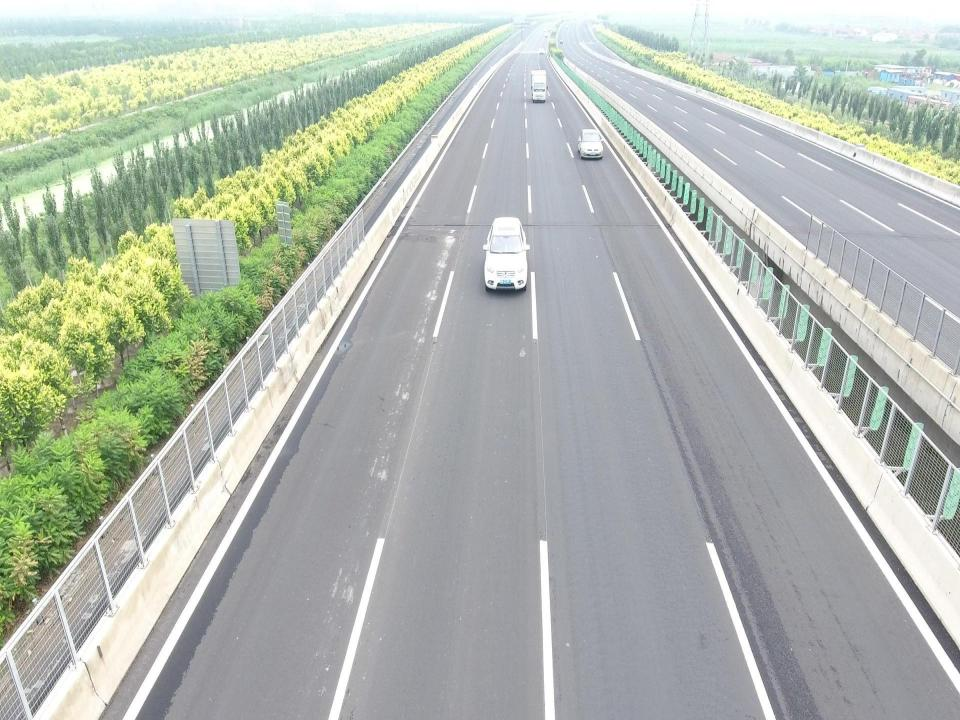car: (578, 129, 604, 158), (538, 48, 544, 53), (544, 33, 548, 36), (564, 25, 568, 28), (543, 28, 546, 31), (548, 27, 550, 31), (560, 40, 562, 43)
truck: (530, 70, 548, 103)
van: (482, 217, 530, 292)
